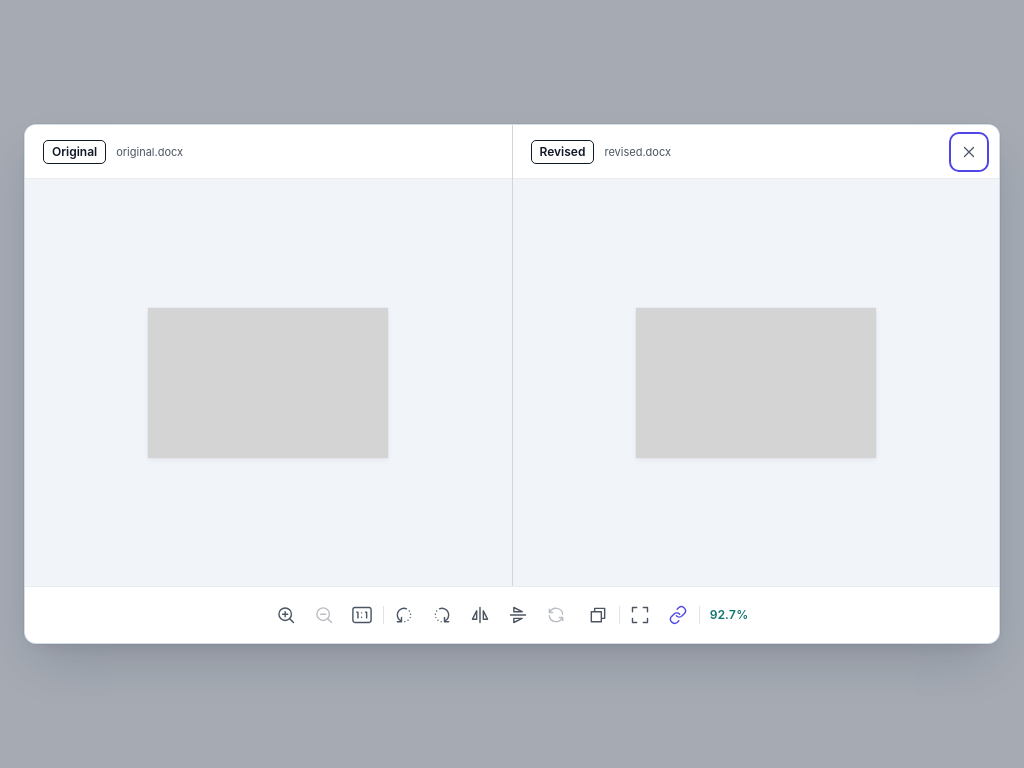
it: ImagePreviewModal › overlays both sources in a difference view and toggles back from the same control
Click the button named "Difference overlay".
click(598, 615)  # box left=580, top=595, right=616, bottom=635
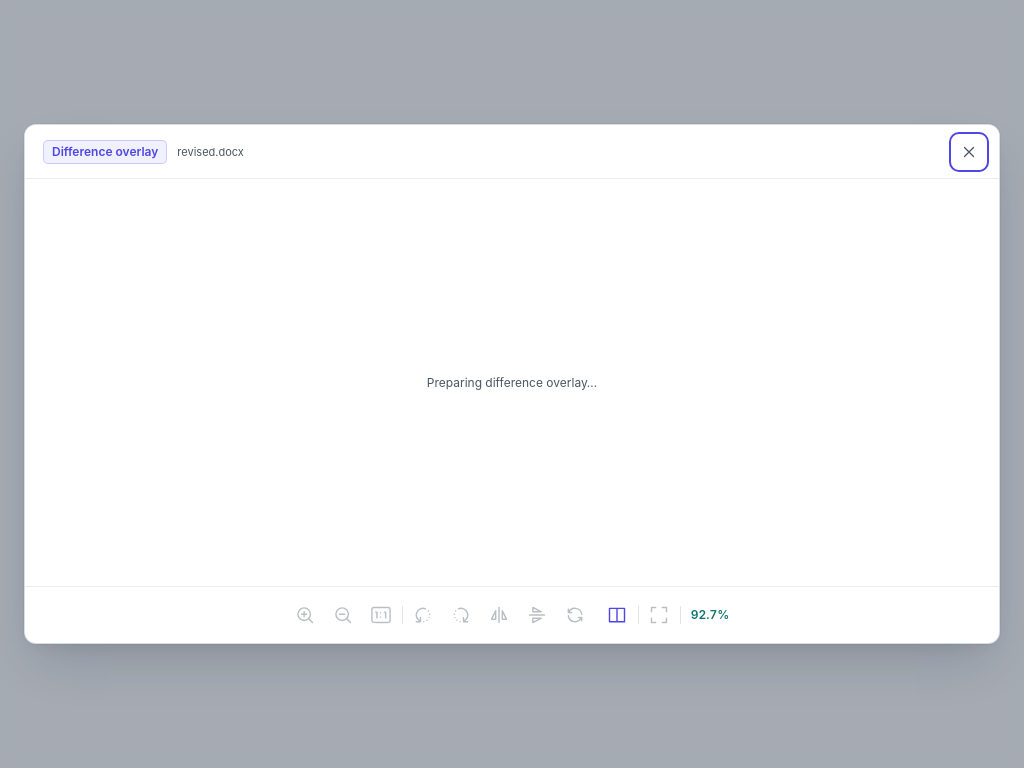
Result: the number of elements with class "image-preview-pane" is 1 at left=25, top=125, right=999, bottom=390
Result: the button with class "image-preview-link" is gone
Result: the dialog "Difference overlay" is shown
Click the button named "Difference overlay".
click(617, 615)  # box left=599, top=595, right=635, bottom=635
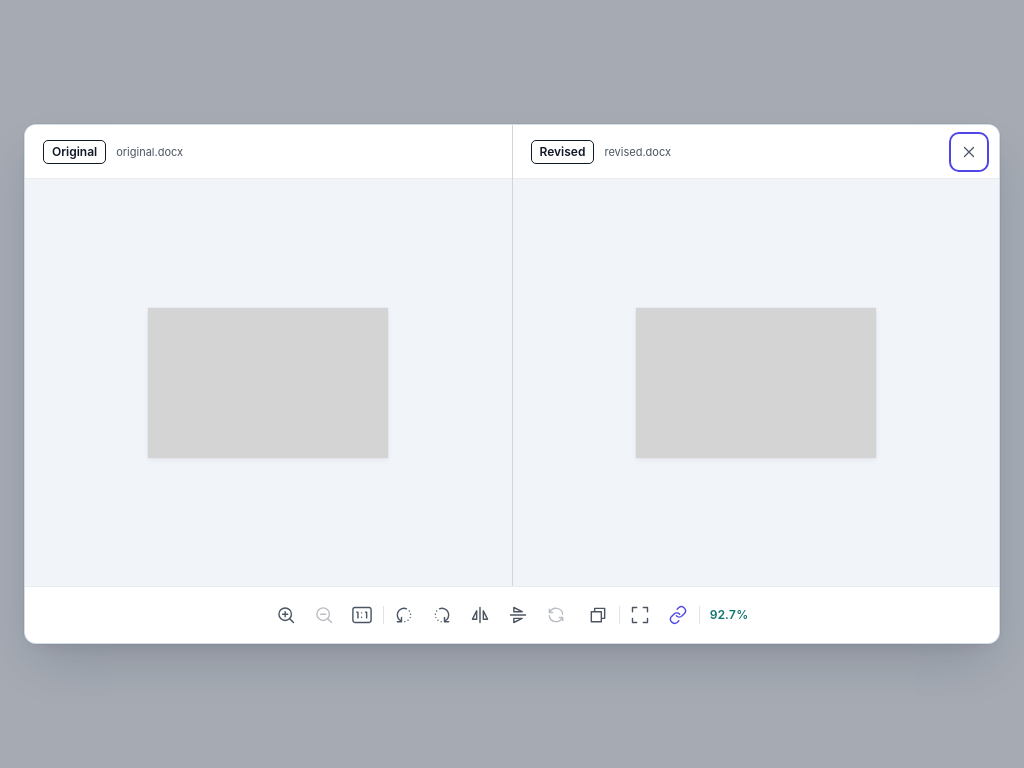
Result: the number of elements with class "image-preview-pane" is 2 at left=25, top=125, right=512, bottom=586; left=512, top=125, right=999, bottom=586
Result: the dialog named "Image comparison" is shown
Result: the button named "Link image controls" is enabled at left=660, top=595, right=696, bottom=635
